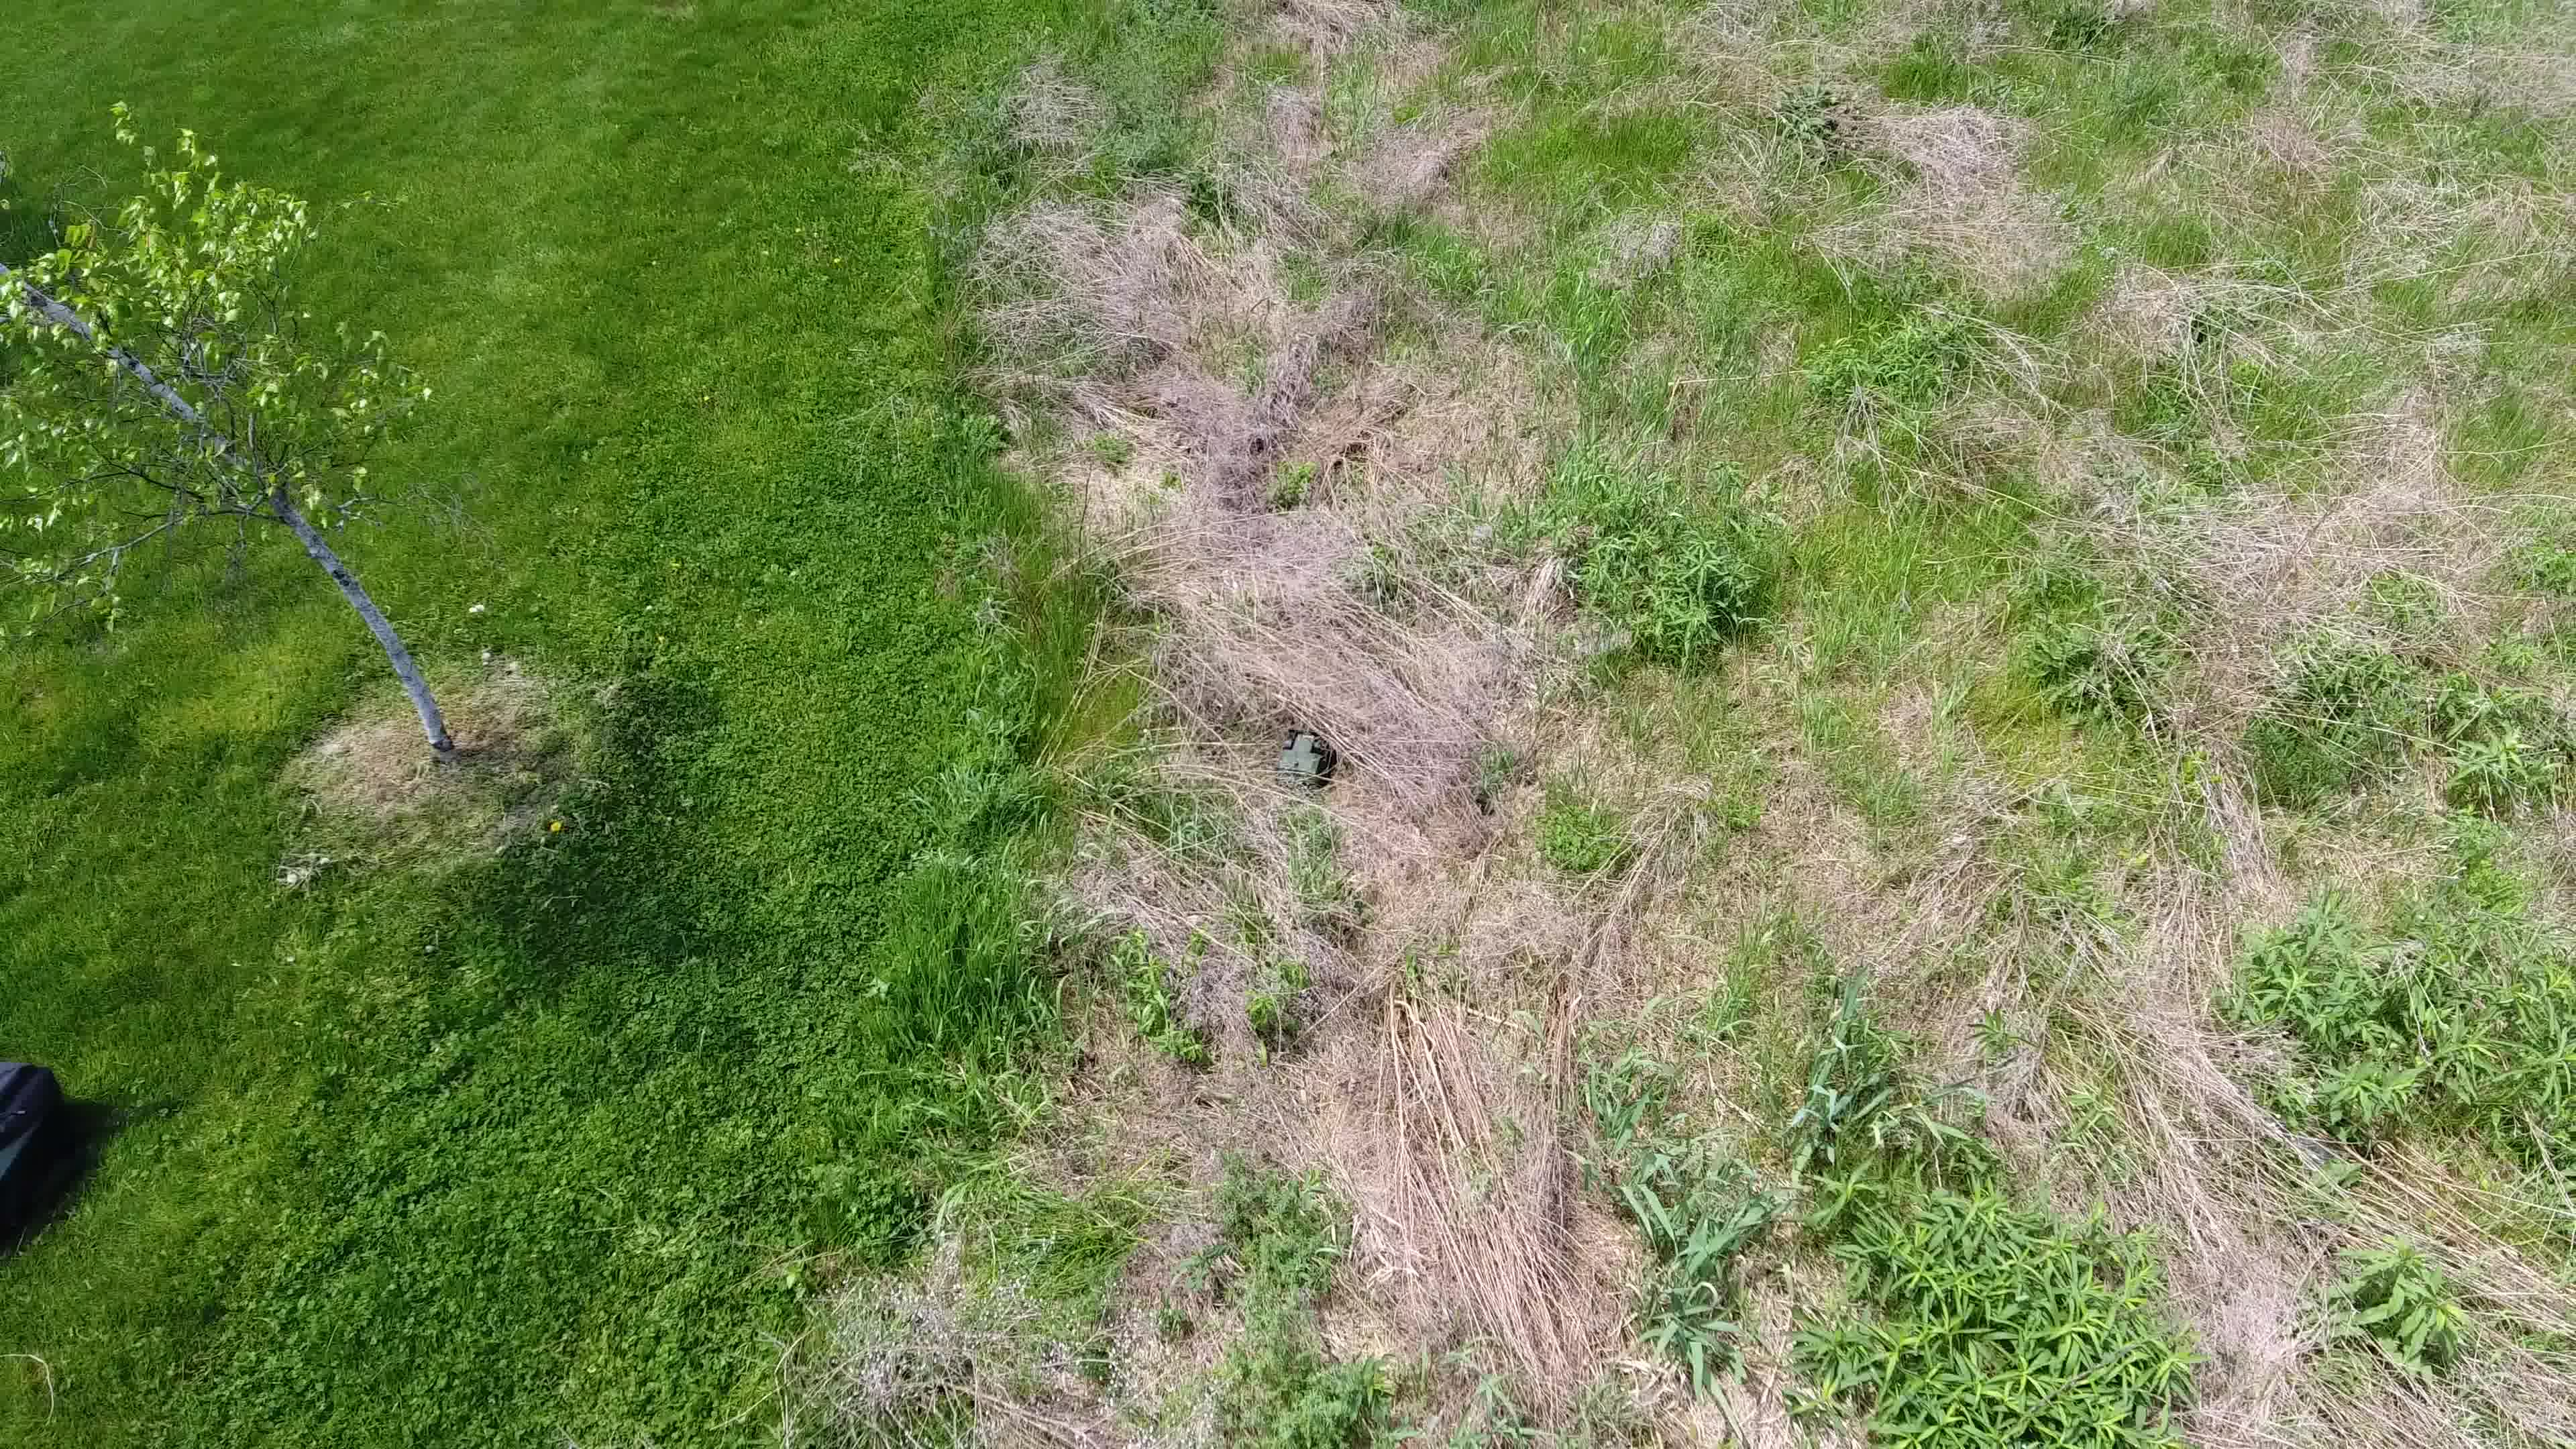transporter9: (1270, 725, 1336, 787)
